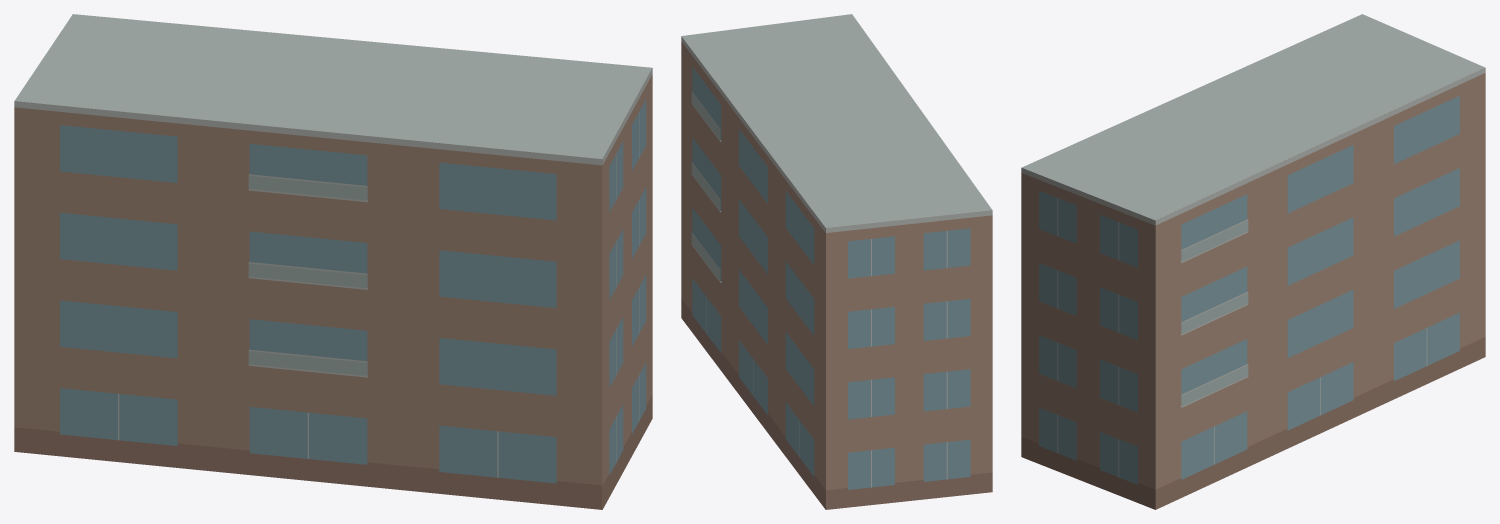
File: survey-upis-33015742.glb
The picture shows the model from 3 angles, left to right: view 1: azimuth 30°, elevation 25°; view 2: azimuth 150°, elevation 25°; view 3: azimuth 270°, elevation 25°; orthographic projection. The views are drawn at different scales.
Parts seen in each view (by area): view 1: survey-upis-33015742.tmp; view 2: survey-upis-33015742.tmp; view 3: survey-upis-33015742.tmp.
Part boxes in pixels (bbox=[...]): survey-upis-33015742.tmp: bbox=[14, 14, 652, 509]; survey-upis-33015742.tmp: bbox=[681, 14, 992, 509]; survey-upis-33015742.tmp: bbox=[1021, 14, 1485, 509].
Size of the model in its own units: 20.97 by 13.7 by 19.92.
